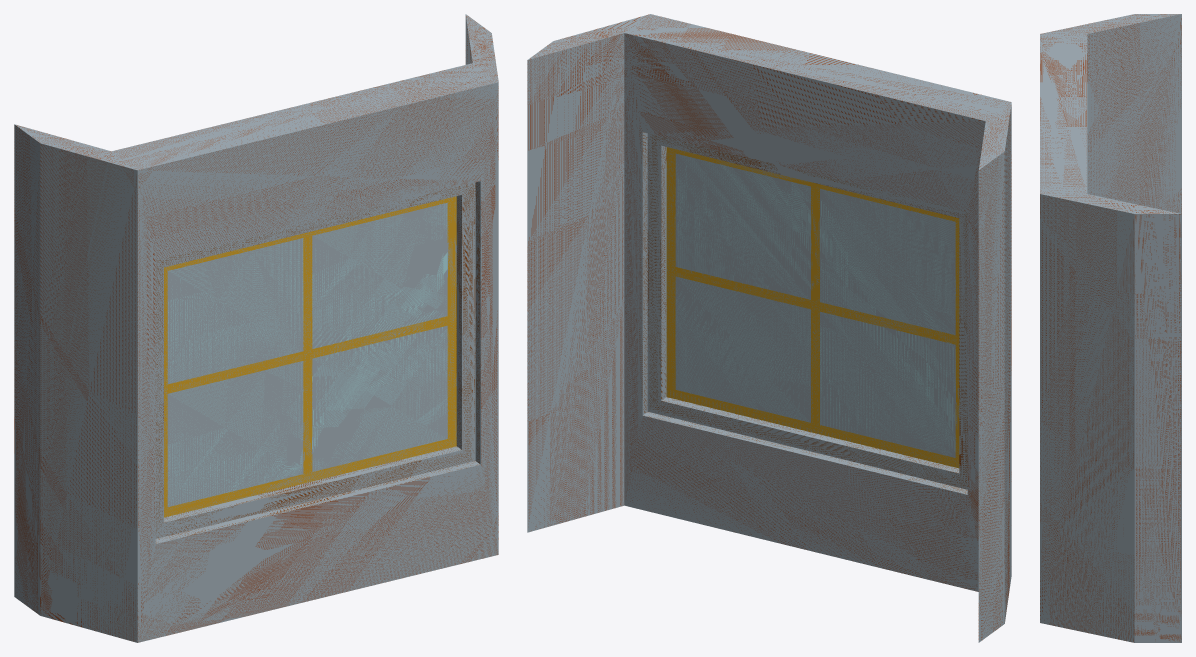
File: window_bay_5.fbx
The picture shows the model from 3 angles, left to right: view 1: azimuth 30°, elevation 25°; view 2: azimuth 150°, elevation 25°; view 3: azimuth 270°, elevation 25°; orthographic projection. The views are drawn at different scales.
Visible parts, largest first — view 1: Mesh1_window_14_1 Model; view 2: Mesh1_window_14_1 Model; view 3: Mesh1_window_14_1 Model.
Boxes of the visible parts, x1=… form: Mesh1_window_14_1 Model: x1=14, y1=14, x2=498, y2=642; Mesh1_window_14_1 Model: x1=527, y1=14, x2=1011, y2=642; Mesh1_window_14_1 Model: x1=1040, y1=14, x2=1181, y2=642.
Size of the model in its own units: 1 by 1 by 0.3.
